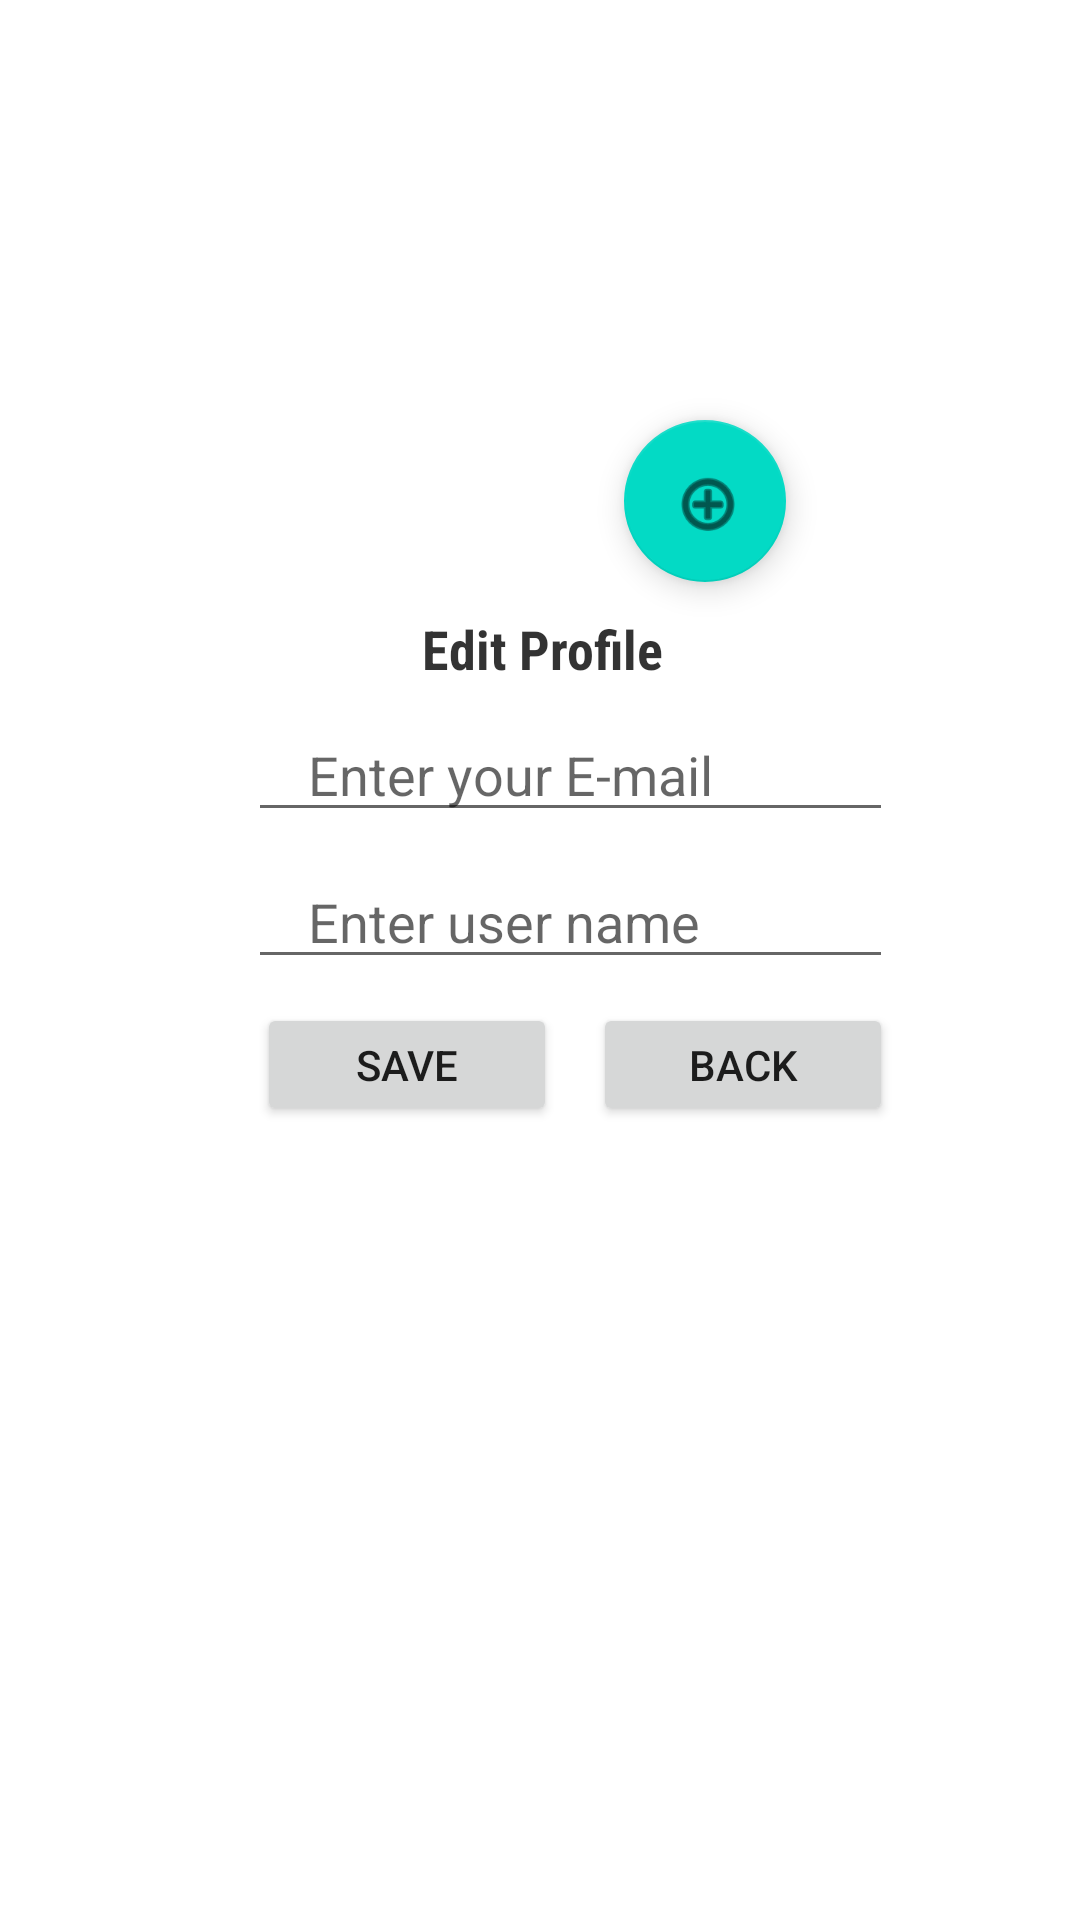

Locate icon controls on the screen. Image size 1080px x 1920px, boxes as (x1, y1, x2, y2).
add: (624, 420, 786, 582)
